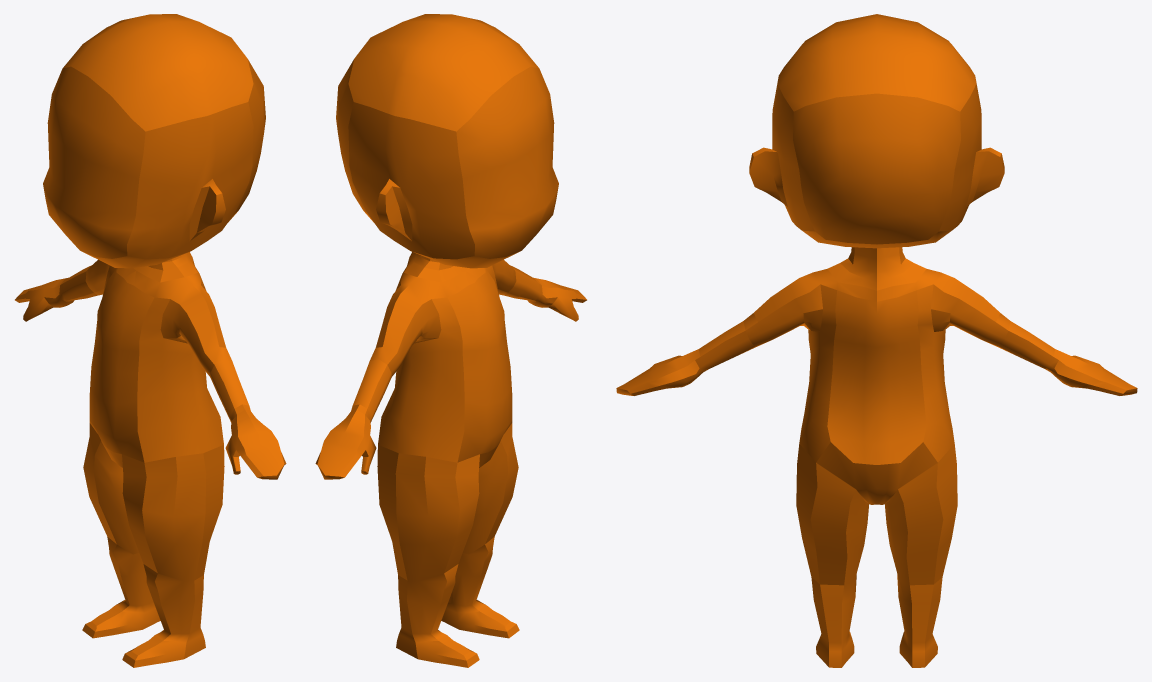
File: OrangePlaceholder.fbx
3 renders of one model, left to right at view 1: azimuth 30°, elevation 25°; view 2: azimuth 150°, elevation 25°; view 3: azimuth 270°, elevation 25°, orthographic. The views are drawn at different scales.
Visible parts, largest first — view 1: Body, Head; view 2: Body, Head; view 3: Body, Head.
Boxes of the visible parts, <box> form: Body: <box>15,252,286,667</box>; Head: <box>43,14,265,268</box>; Body: <box>315,252,586,667</box>; Head: <box>336,14,558,268</box>; Body: <box>616,247,1137,667</box>; Head: <box>749,14,1004,248</box>.
Size of the model in its own units: 2.26 by 6.64 by 4.97.
